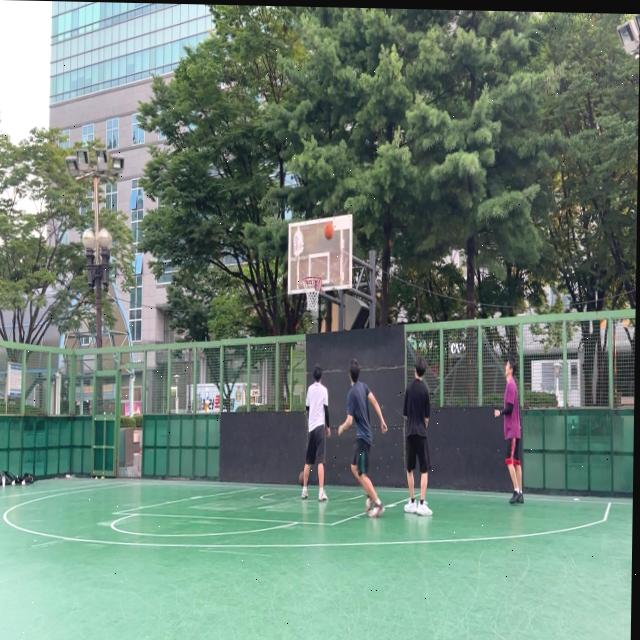basketball: (324, 221, 334, 239), (299, 471, 304, 487)
hoop: (302, 276, 322, 313)
